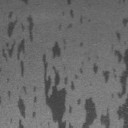red iron: (22, 40, 82, 128), (78, 48, 128, 128), (2, 11, 34, 76), (58, 0, 82, 30), (18, 98, 36, 128), (122, 18, 128, 27), (116, 32, 120, 40), (22, 0, 28, 4), (8, 90, 10, 98)
